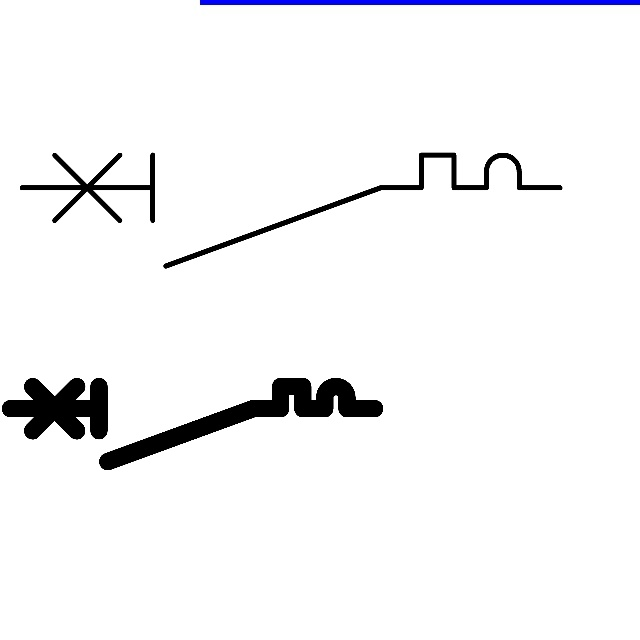interruptor_termomagnetico: (8, 141, 574, 279), (1, 377, 384, 470)
